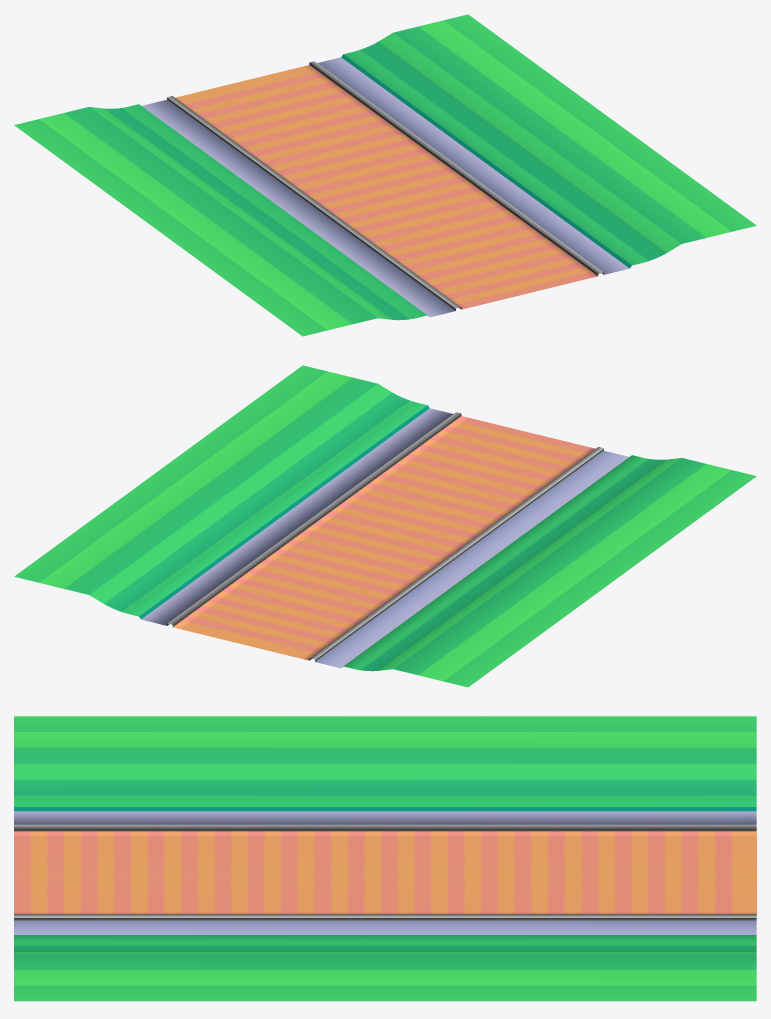
Rendered from Route.fbx.
3 views of the same model, one above another, from view 1: azimuth 30°, elevation 25°; view 2: azimuth 150°, elevation 25°; view 3: azimuth 270°, elevation 25° (orthographic). The views are drawn at different scales.
Parts seen in each view (by area): view 1: Plane; view 2: Plane; view 3: Plane.
Boxes of the visible parts, <box> form: Plane: <box>14,14,756,336</box>; Plane: <box>14,365,756,687</box>; Plane: <box>14,716,756,1001</box>.
Bounding box in the file's own units: 4348 × 109 × 4788.
